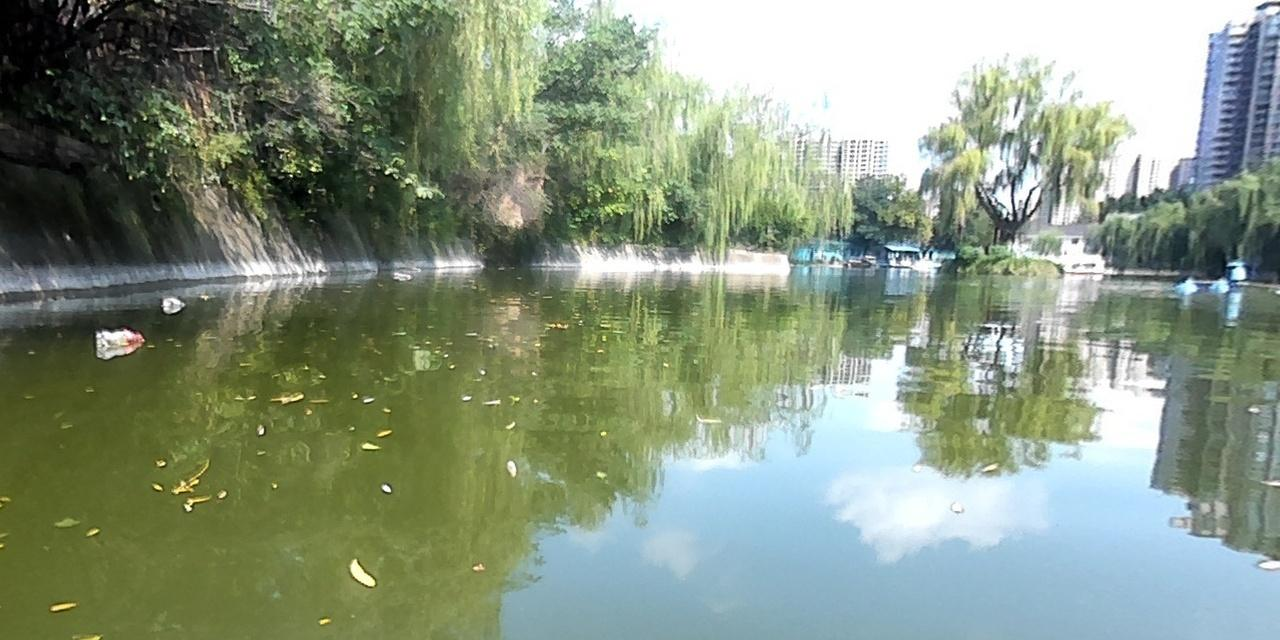bottle: (89, 324, 144, 352), (158, 293, 186, 310)
